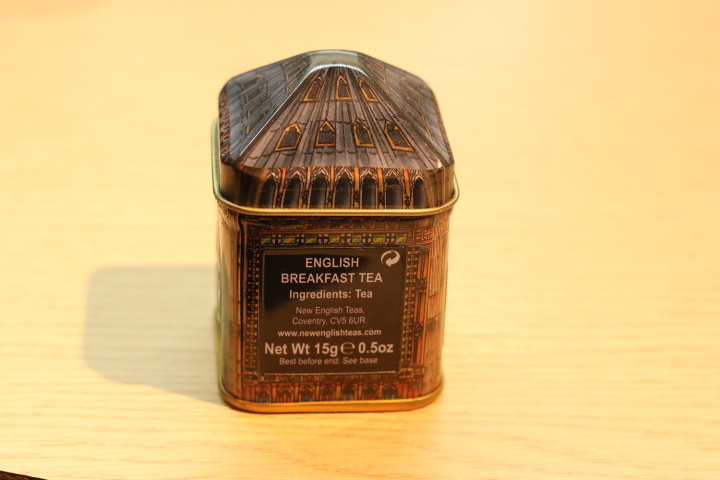Big Ben: (183, 36, 479, 425)
